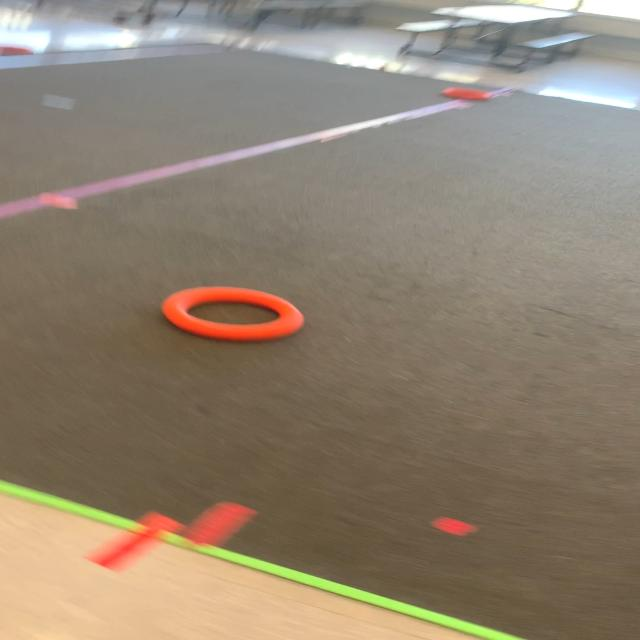notes: (161, 284, 305, 342), (440, 86, 490, 101)
